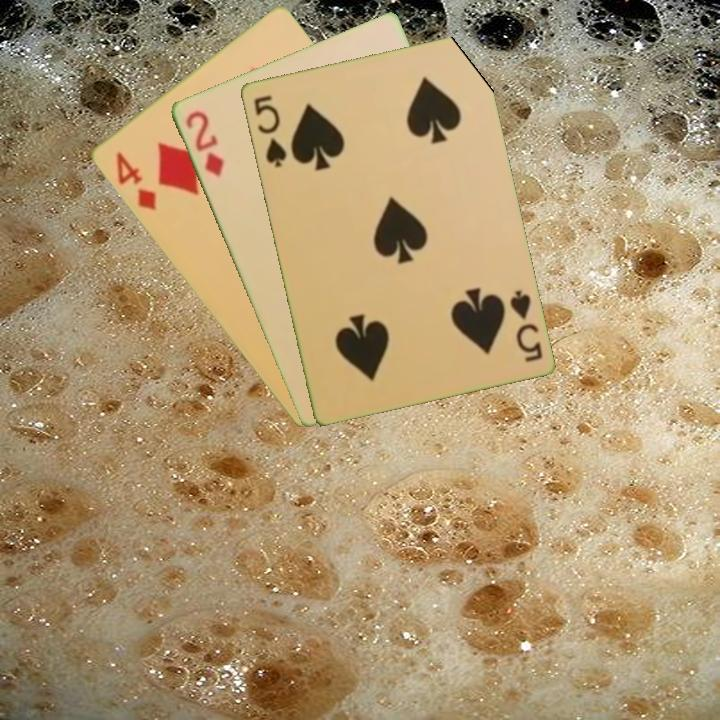2d: (181, 107, 227, 180)
4d: (111, 148, 159, 214)
5s: (249, 91, 289, 170), (506, 286, 545, 365)
